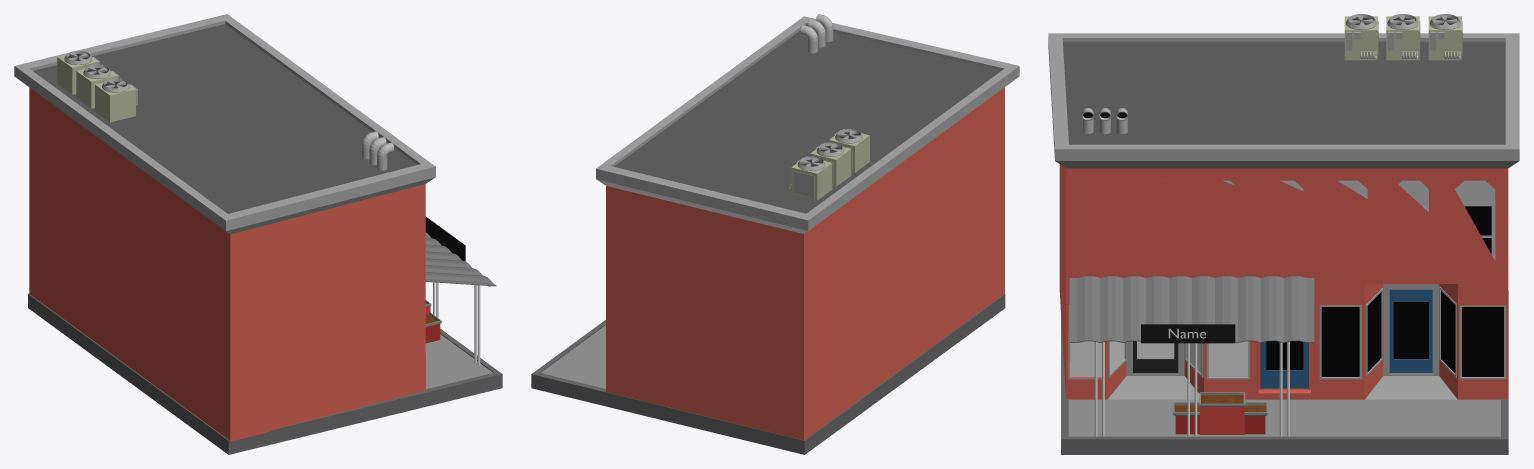
File: GoodMPublic.fbx
3 renders of one model, left to right at view 1: azimuth 30°, elevation 25°; view 2: azimuth 150°, elevation 25°; view 3: azimuth 270°, elevation 25°, orthographic. The views are drawn at different scales.
Parts seen in each view (by area): view 1: Cube, Cube.001, Plane, Plane.001, Cube.005, Cube.003, Cube.004, Cylinder.004, Plane.002, Cylinder.002, Cube.002; view 2: Cube, Cube.001, Plane, Cube.003, Cube.004, Cube.005, Cylinder.004; view 3: Cube, Plane.001, Plane, Cube.001, Cube.002, Plane.002, Cube.004, Cube.003, Cube.005, Cylinder.004, Cylinder.001, Cylinder.002 (+1 smaller).
Part boxes in pixels (x1,y1,x2,y2): Cube: (14, 14, 435, 441); Cube.001: (28, 293, 502, 454); Plane: (425, 334, 492, 389); Plane.001: (425, 232, 496, 286); Cube.005: (95, 78, 137, 122); Cube.003: (57, 50, 100, 94); Cube.004: (76, 64, 119, 108); Cylinder.004: (361, 131, 393, 170); Plane.002: (425, 216, 465, 261); Cylinder.002: (474, 285, 480, 365); Cube.002: (425, 300, 441, 343); Cube: (596, 16, 1019, 440); Cube.001: (531, 294, 1005, 454); Plane: (541, 325, 605, 388); Cube.003: (789, 156, 832, 200); Cube.004: (810, 142, 851, 186); Cube.005: (829, 129, 869, 172); Cylinder.004: (800, 14, 833, 53); Cube: (1048, 33, 1519, 399); Plane.001: (1069, 276, 1314, 342); Plane: (1068, 399, 1500, 436); Cube.001: (1061, 290, 1508, 454); Cube.002: (1173, 392, 1267, 434); Plane.002: (1141, 324, 1235, 343); Cube.004: (1386, 14, 1420, 60); Cube.003: (1428, 14, 1462, 60); Cube.005: (1344, 14, 1378, 60); Cylinder.004: (1082, 108, 1127, 133); Cylinder.001: (1279, 341, 1289, 436); Cylinder.002: (1094, 342, 1104, 436).
Bounding box in the file's own units: 2280 × 2064 × 2956.
